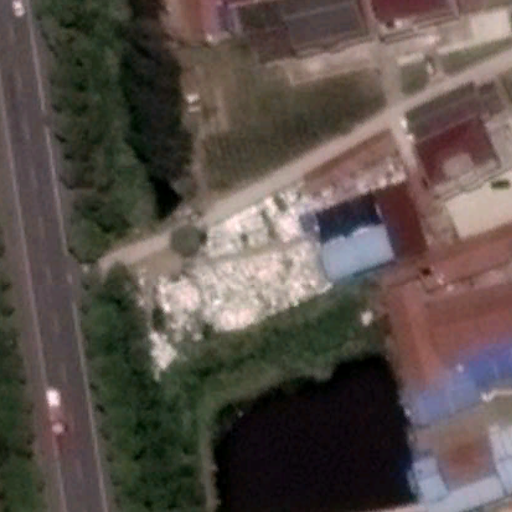msw: (142, 187, 339, 377)
